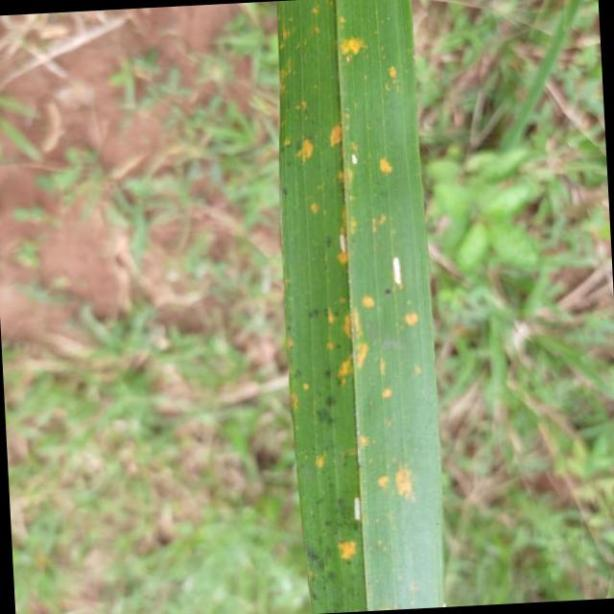Kalium: (278, 0, 448, 614)
